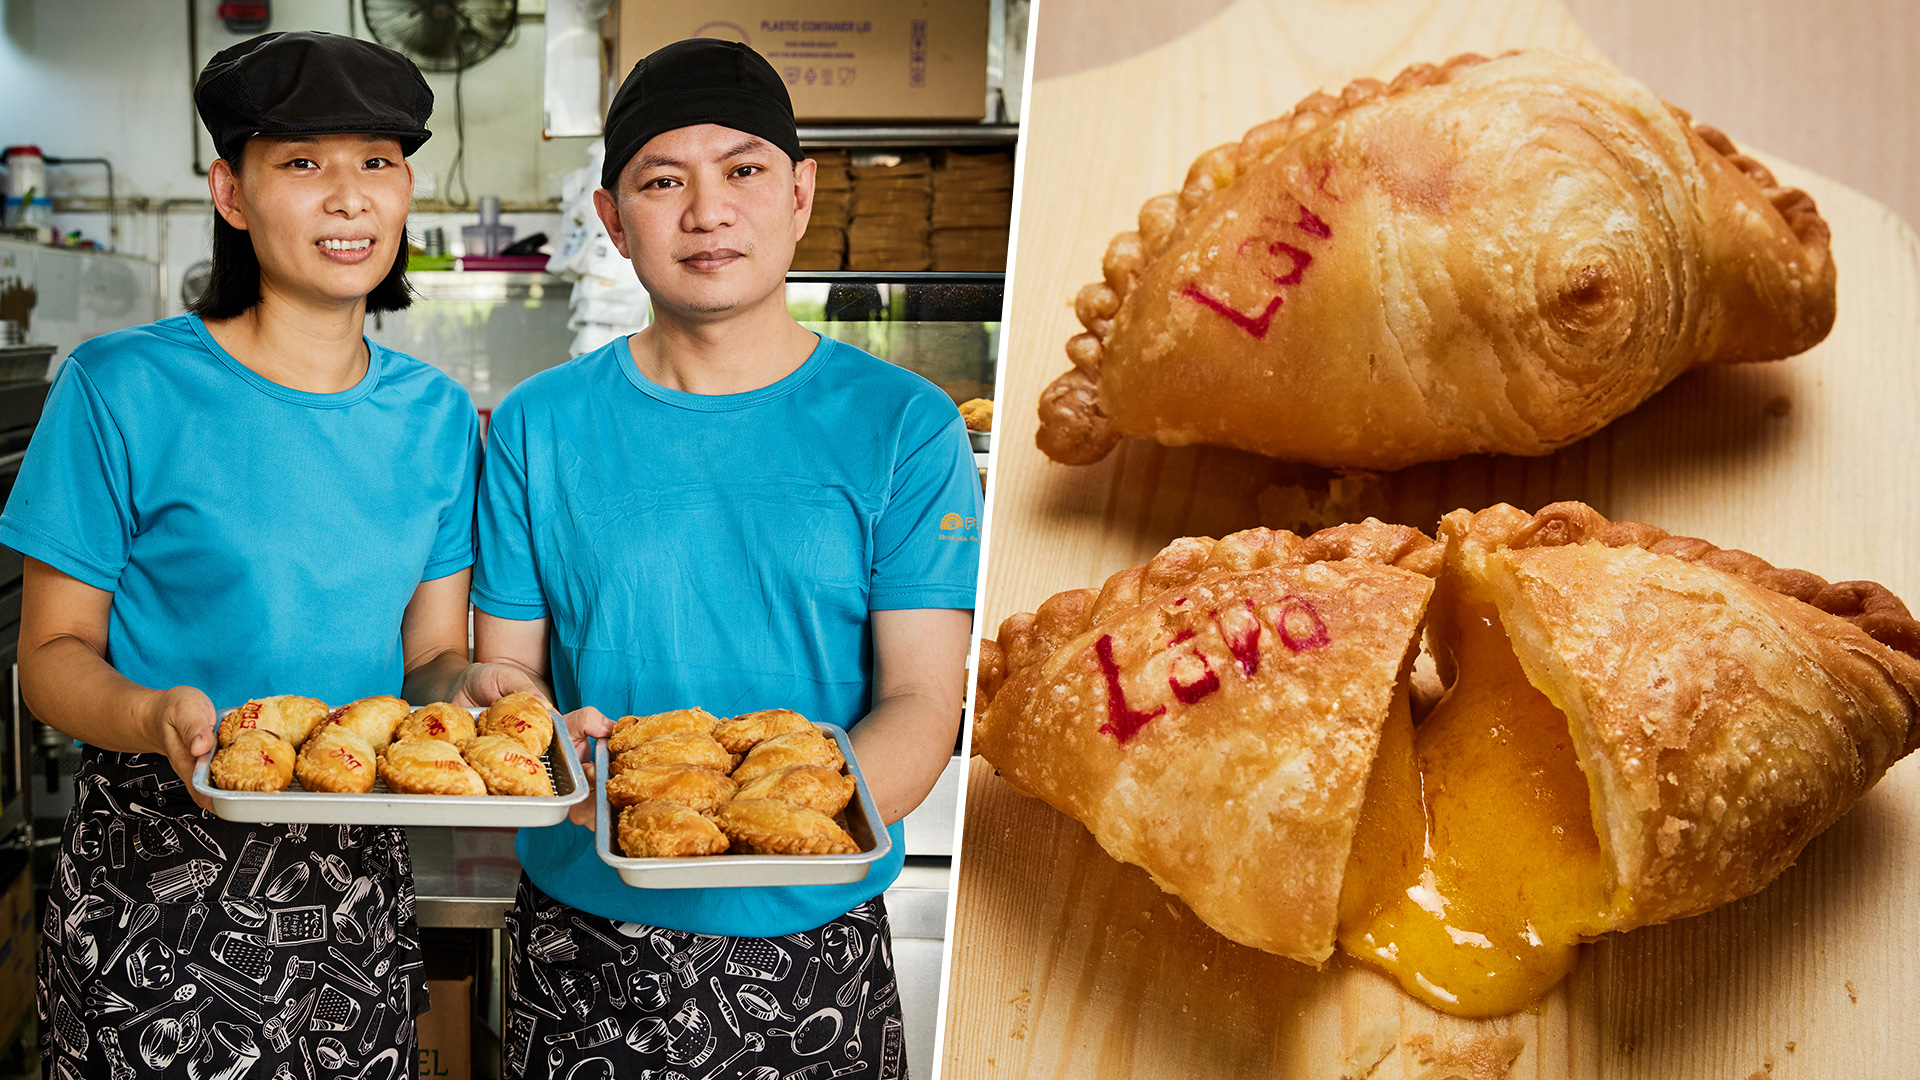Curry Puff: (1021, 510, 1919, 1039), (1058, 45, 1869, 469), (725, 757, 870, 822), (196, 725, 306, 810), (709, 814, 872, 870), (607, 800, 725, 877), (381, 725, 491, 796), (591, 702, 733, 752), (609, 757, 729, 808), (459, 736, 555, 793), (728, 725, 856, 767), (295, 725, 367, 796)
